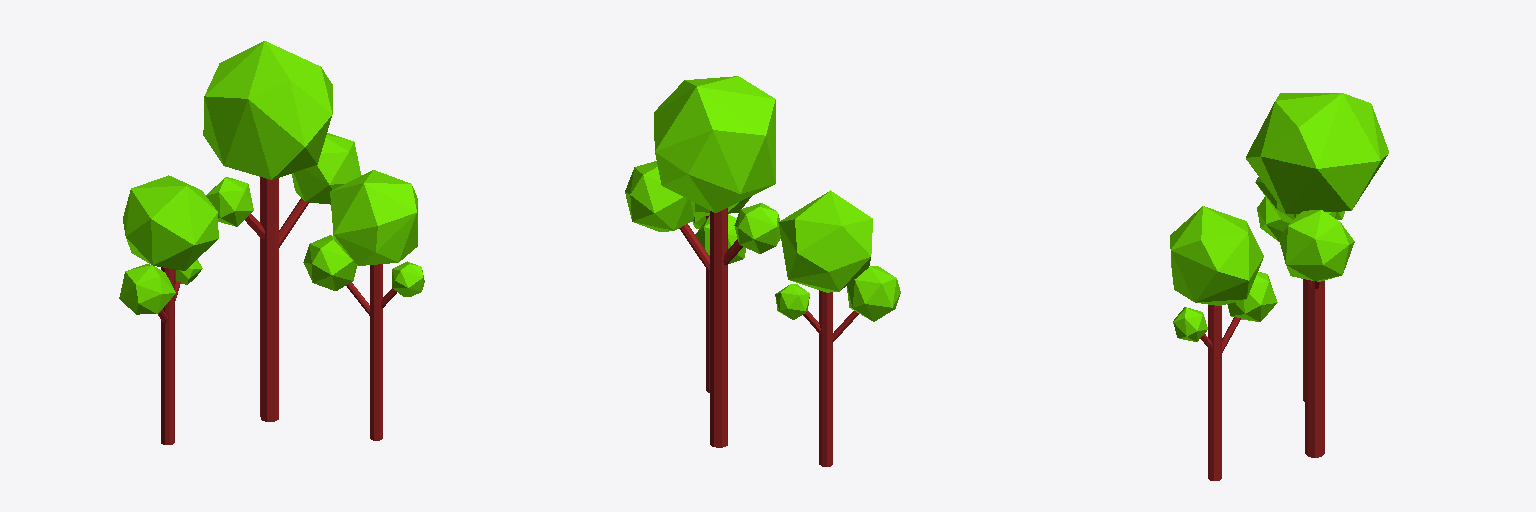
The model's file is treegroup.obj.
3 views of the same model, side by side, from view 1: azimuth 30°, elevation 25°; view 2: azimuth 150°, elevation 25°; view 3: azimuth 270°, elevation 25° (orthographic).
Size of the model in its own units: 42.21 by 56.37 by 30.64.